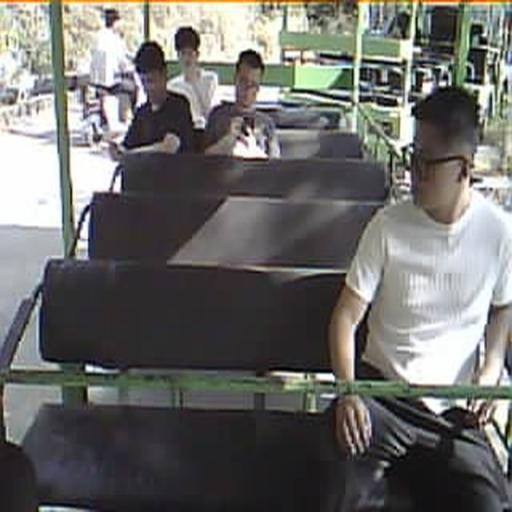persona: (325, 84, 511, 510), (108, 40, 196, 158), (203, 48, 281, 160), (166, 26, 219, 131)
